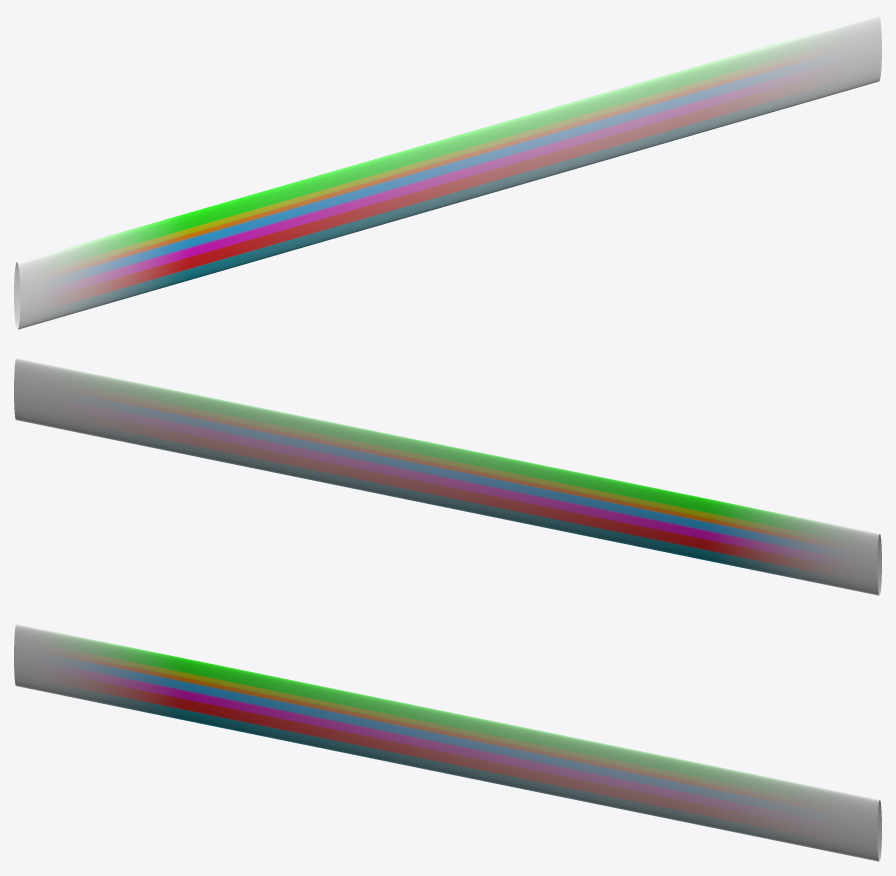
3 renders of one model, top to bottom at view 1: azimuth 30°, elevation 25°; view 2: azimuth 150°, elevation 25°; view 3: azimuth 330°, elevation 25°, orthographic. The views are drawn at different scales.
Parts seen in each view (by area): view 1: Cylinder.436; view 2: Cylinder.436; view 3: Cylinder.436.
Part boxes in pixels (bbox=[...]): Cylinder.436: bbox=[14, 14, 881, 329]; Cylinder.436: bbox=[14, 358, 881, 595]; Cylinder.436: bbox=[14, 624, 881, 861].
Size of the model in its own units: 212 by 15.16 by 18.23.
1 material, 1 textured.
